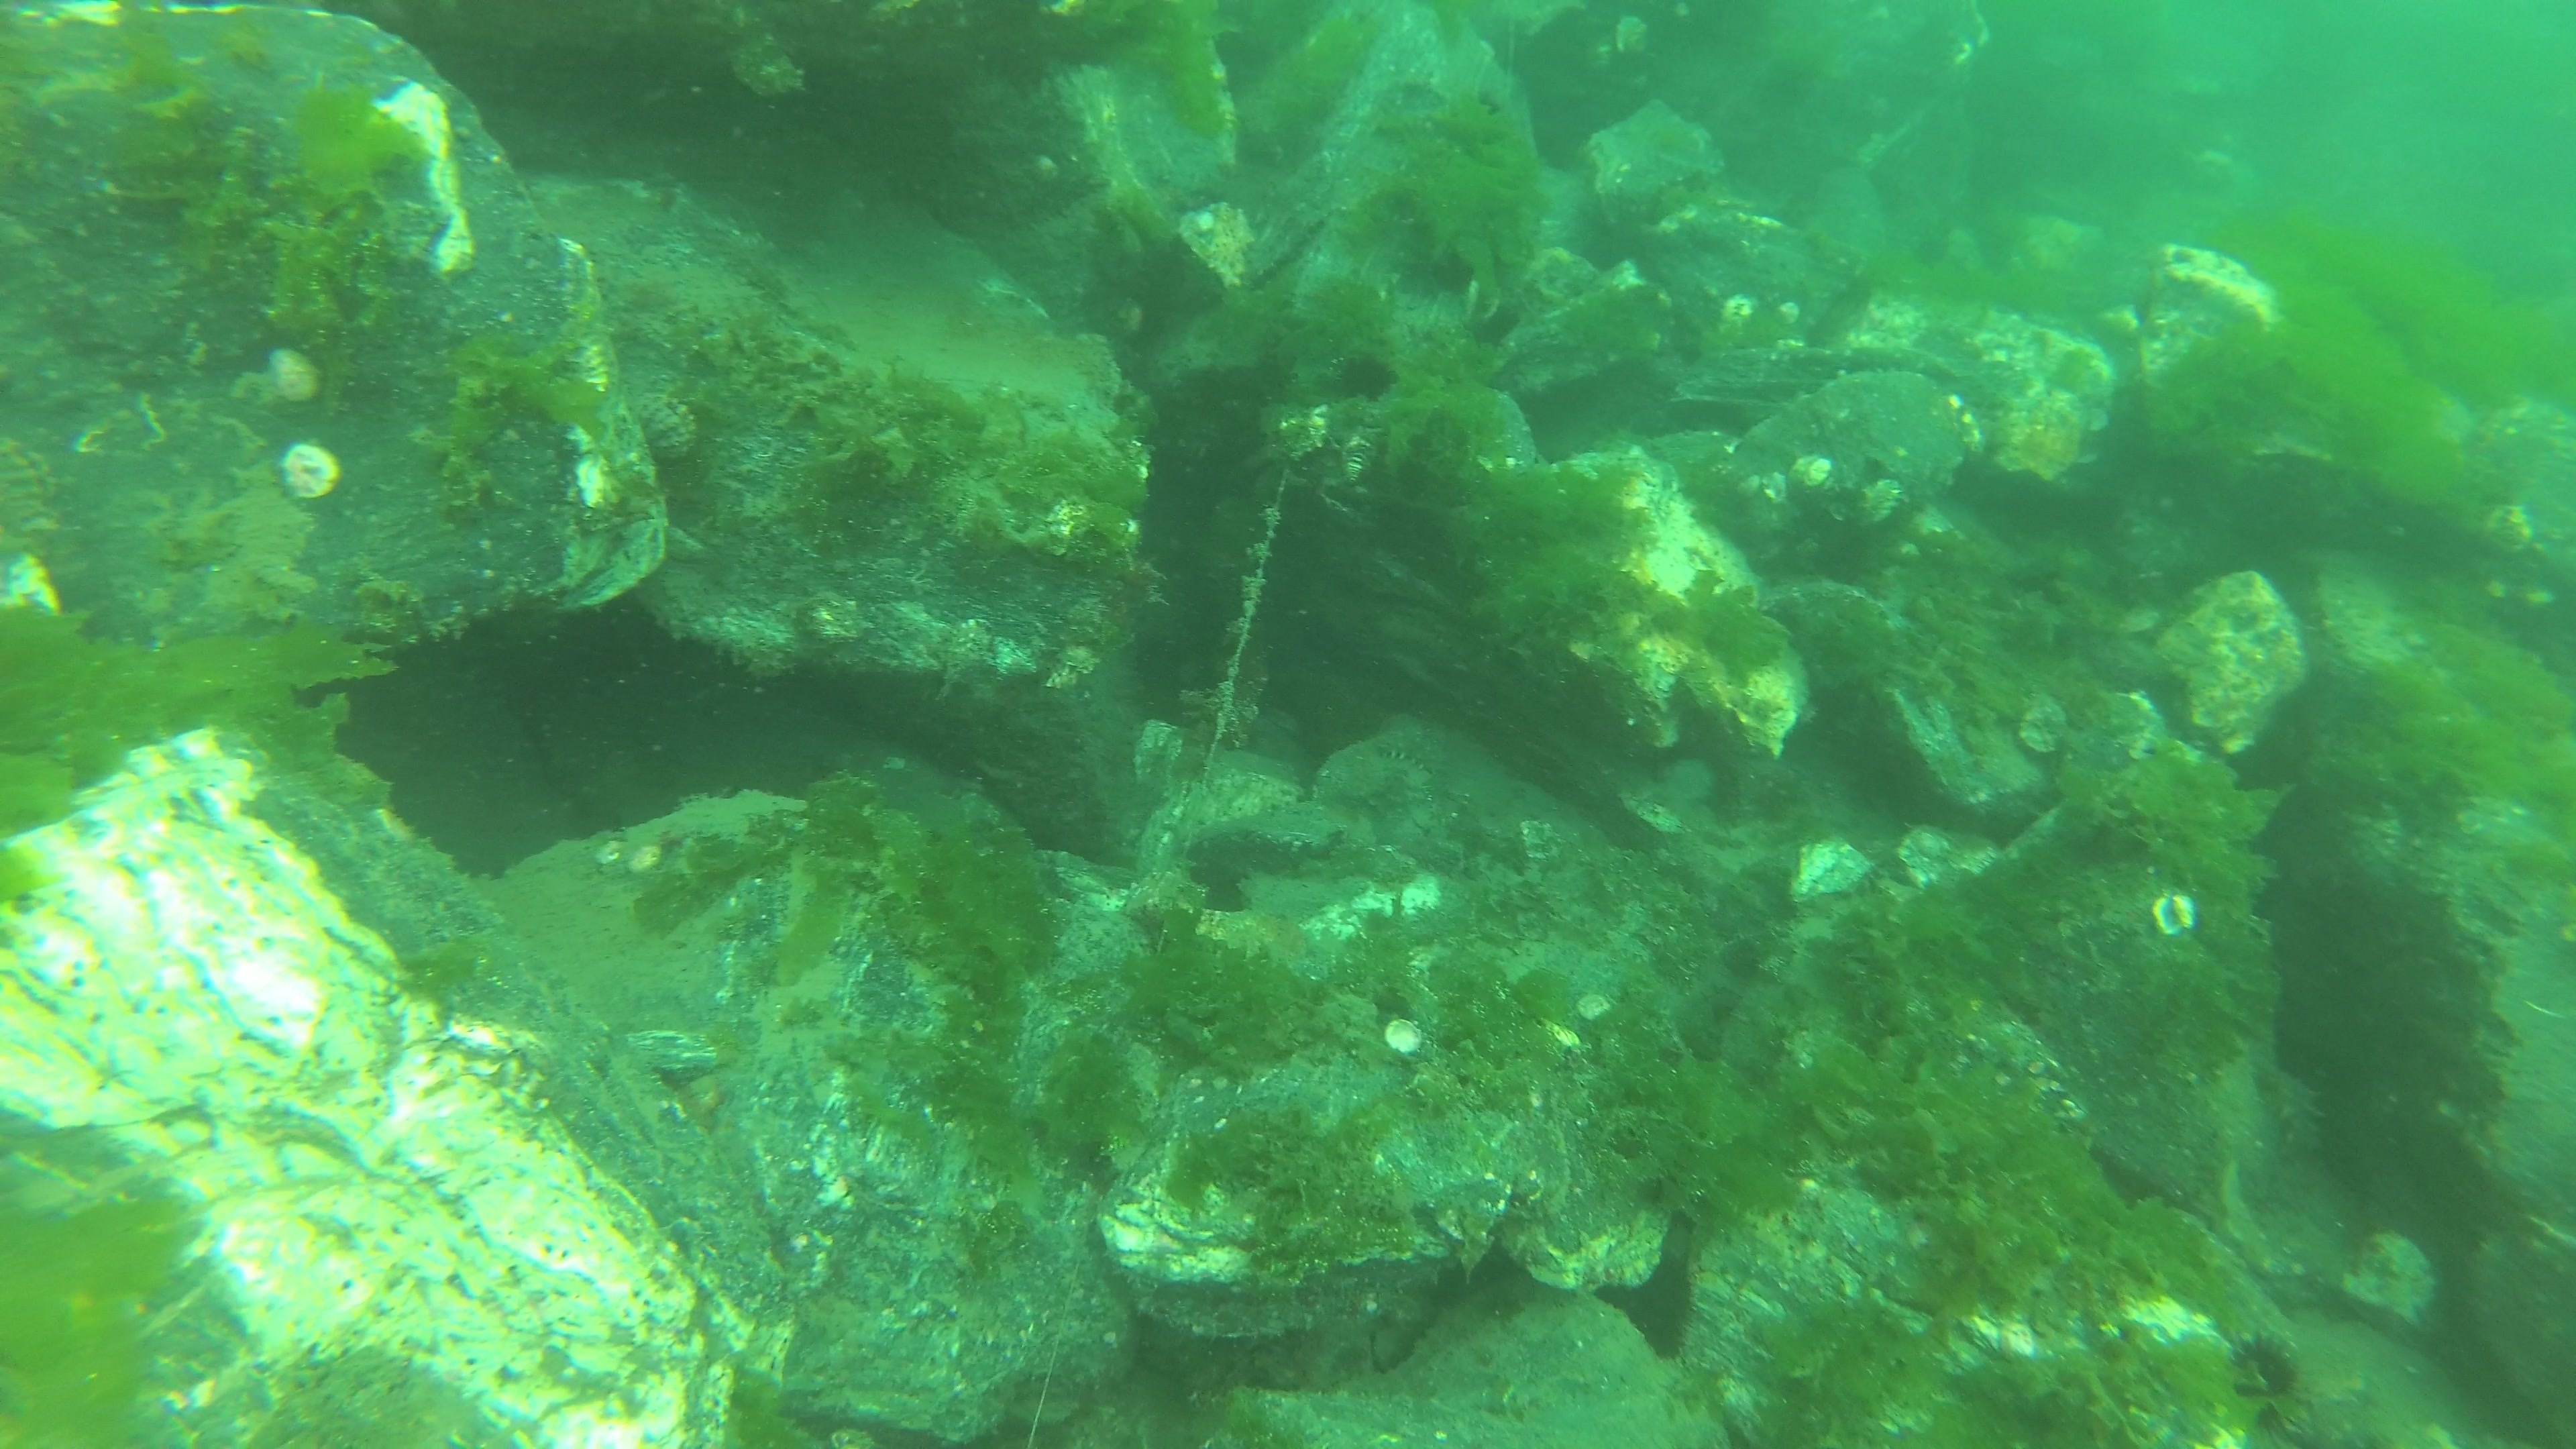echinus: (2236, 1330, 2302, 1401), (1339, 356, 1399, 402)
